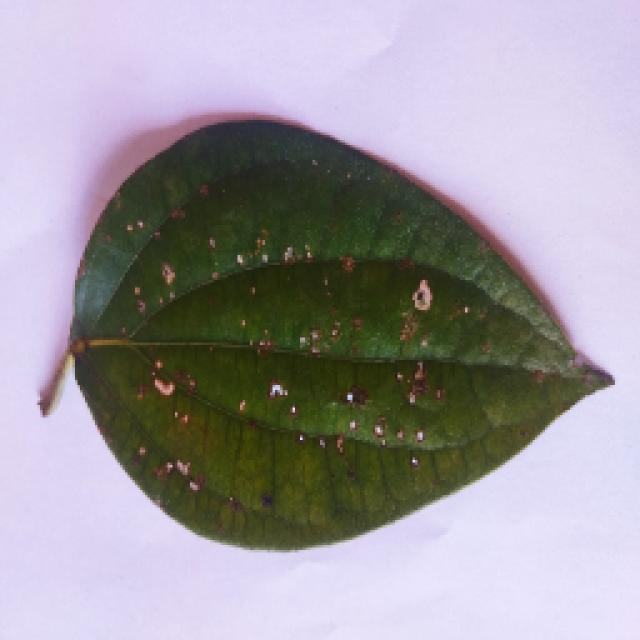pollu-disease: (32, 122, 610, 552)
